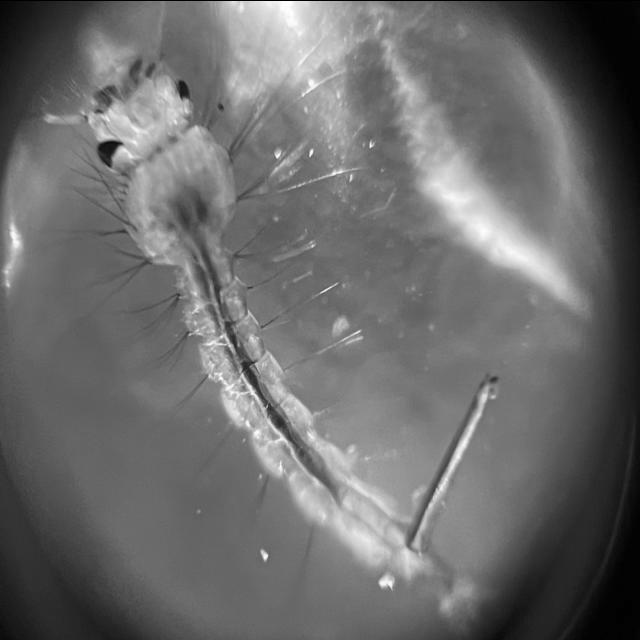larvas: (97, 65, 460, 603)
